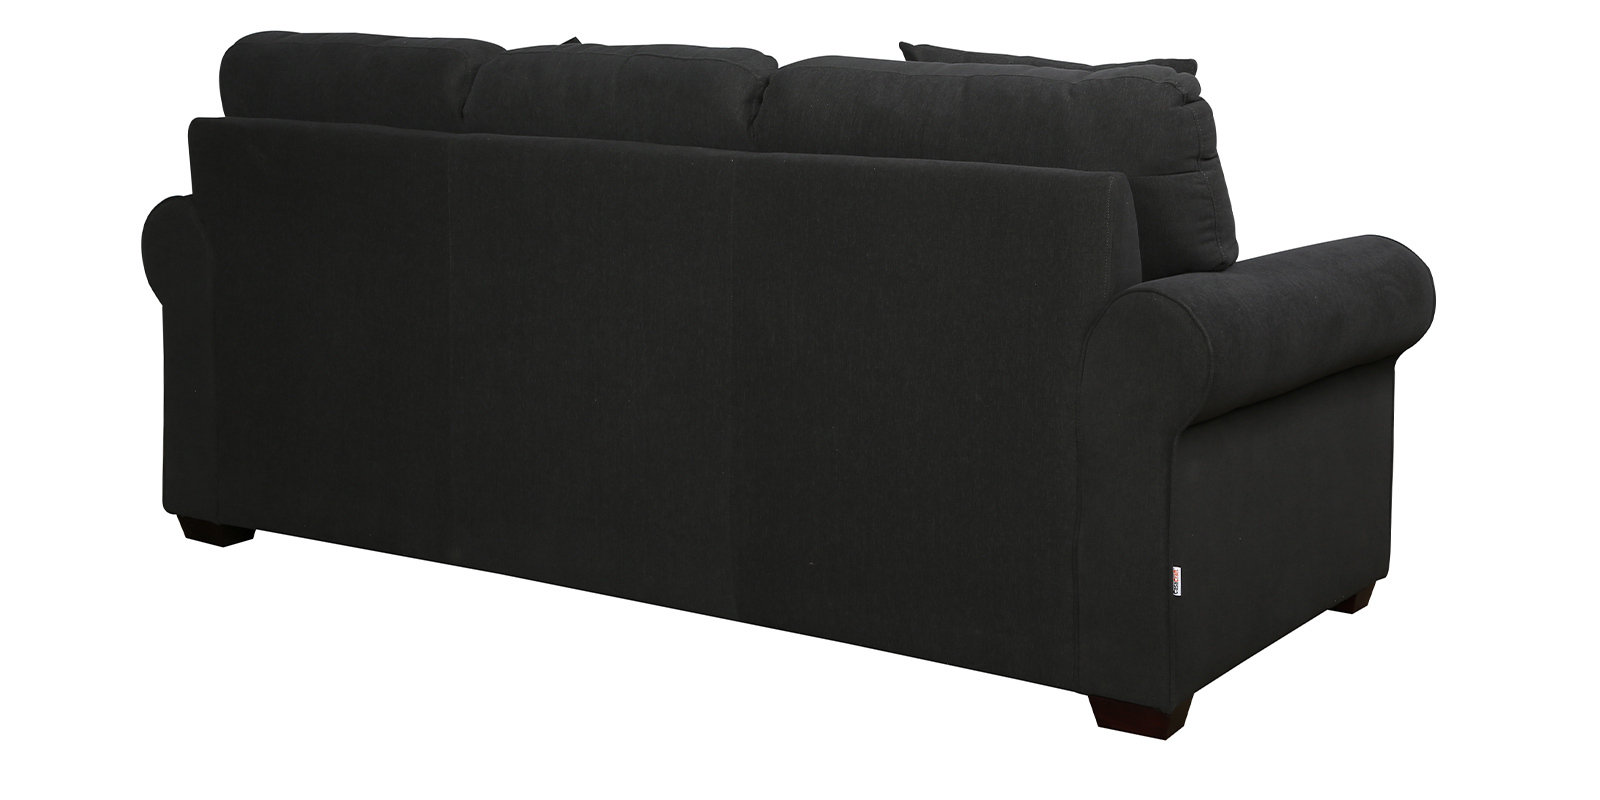Madeira Three Seater Sofa in Charcoal Grey Colour by CasaCraft: (139, 28, 1436, 741)
